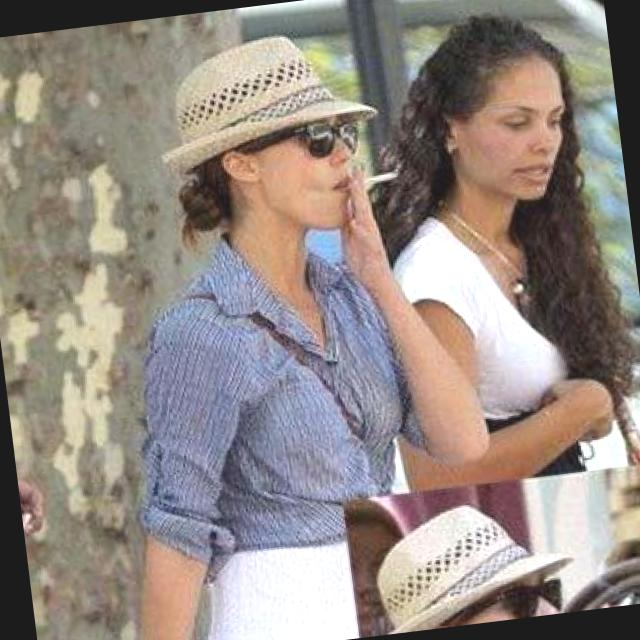smoke: (334, 158, 414, 194)
